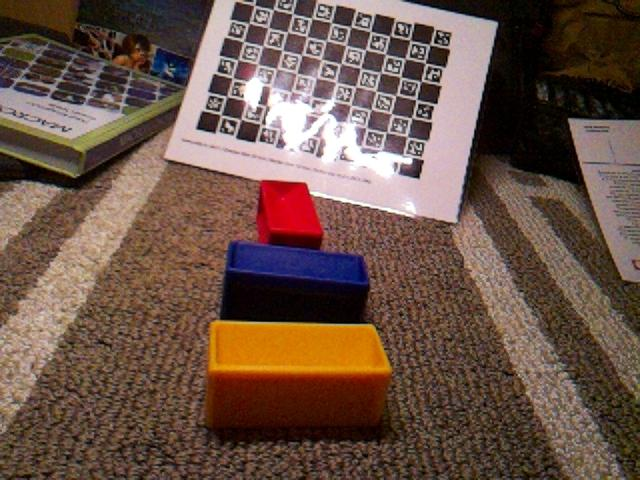blue: (219, 238, 371, 323)
red: (255, 178, 325, 249)
yellow: (204, 318, 393, 432)
